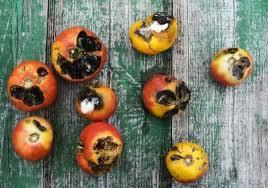tomato early blight: (140, 75, 192, 149), (50, 27, 111, 85), (76, 123, 125, 179), (8, 61, 59, 114), (129, 13, 180, 57), (165, 142, 210, 185), (13, 117, 55, 162), (74, 86, 119, 126), (210, 48, 255, 88)
